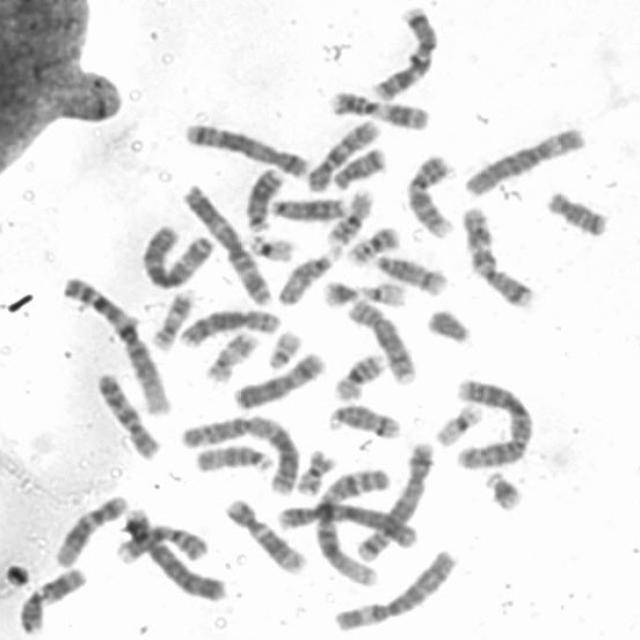A1: (57, 272, 174, 418), (311, 463, 393, 587)
A2: (178, 409, 302, 497), (448, 375, 534, 470)
A3: (178, 181, 274, 307), (133, 219, 217, 287)
B4: (116, 508, 226, 602), (274, 498, 421, 550)
B5: (351, 438, 436, 564), (180, 118, 312, 181)
C10: (92, 368, 161, 465), (300, 115, 379, 194)
C11: (13, 562, 88, 634), (324, 88, 432, 131)
C12: (222, 494, 308, 574), (50, 491, 129, 568)
C6: (329, 546, 462, 634), (460, 124, 589, 196)
C7: (457, 202, 537, 309), (368, 0, 442, 101)
C8: (344, 294, 418, 386), (177, 305, 282, 349)
C9: (402, 154, 457, 240), (111, 521, 209, 565)
D13: (241, 163, 285, 234), (264, 192, 347, 222)
D14: (370, 248, 450, 296), (321, 398, 402, 440)
D15: (274, 249, 338, 307), (189, 440, 277, 475)
E16: (322, 186, 376, 248), (328, 349, 387, 404)
E17: (202, 326, 260, 384), (147, 285, 197, 351)
E18: (541, 184, 611, 238), (328, 144, 389, 191)
F19: (431, 400, 485, 448), (243, 230, 297, 263)
F20: (344, 221, 402, 265), (292, 450, 336, 496)
G21: (482, 467, 526, 513), (318, 276, 363, 309)
G22: (264, 326, 303, 370), (355, 278, 408, 308)
X: (229, 348, 328, 411)
Y: (423, 307, 474, 345)
